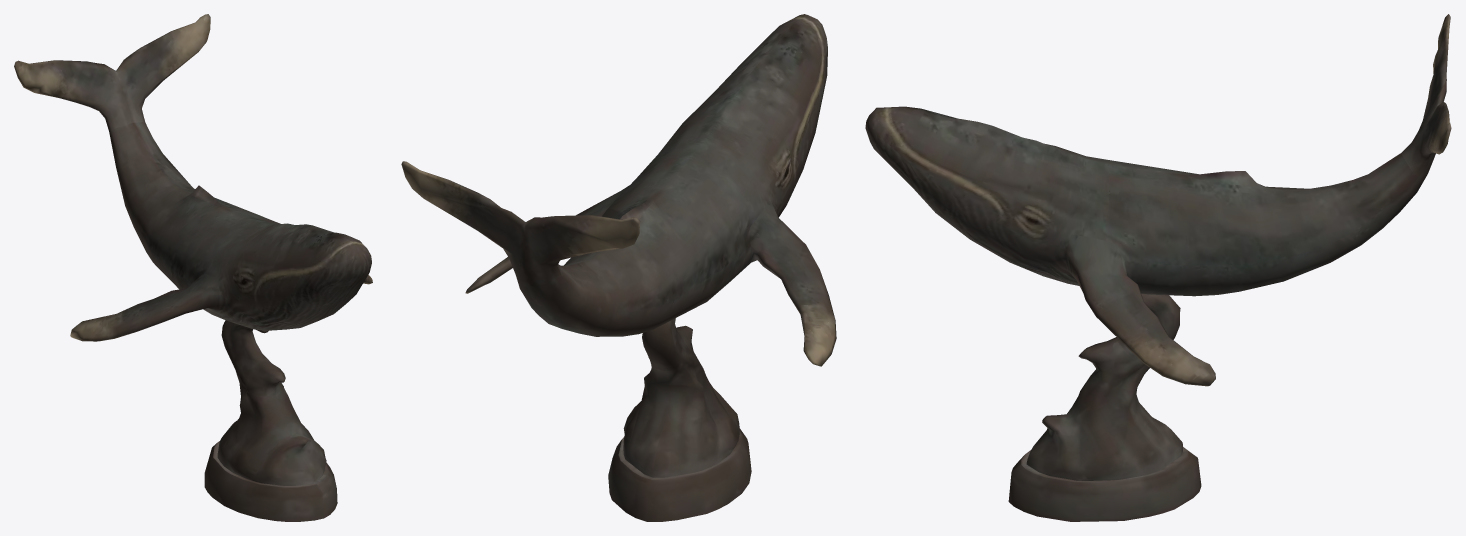
File: bronze_whale_statue.glb
3 renders of one model, left to right at view 1: azimuth 30°, elevation 25°; view 2: azimuth 150°, elevation 25°; view 3: azimuth 270°, elevation 25°, orthographic. The views are drawn at different scales.
Visible parts, largest first — view 1: bronze_whale_statue; view 2: bronze_whale_statue; view 3: bronze_whale_statue.
Boxes of the visible parts, x1,y1,x2,y2 form: bronze_whale_statue: [14, 14, 372, 521]; bronze_whale_statue: [401, 14, 836, 521]; bronze_whale_statue: [865, 14, 1451, 521].
Bounding box in the file's own units: 0.9306 × 1.07 × 1.37.
Materials: 1 (1 with a texture image).
